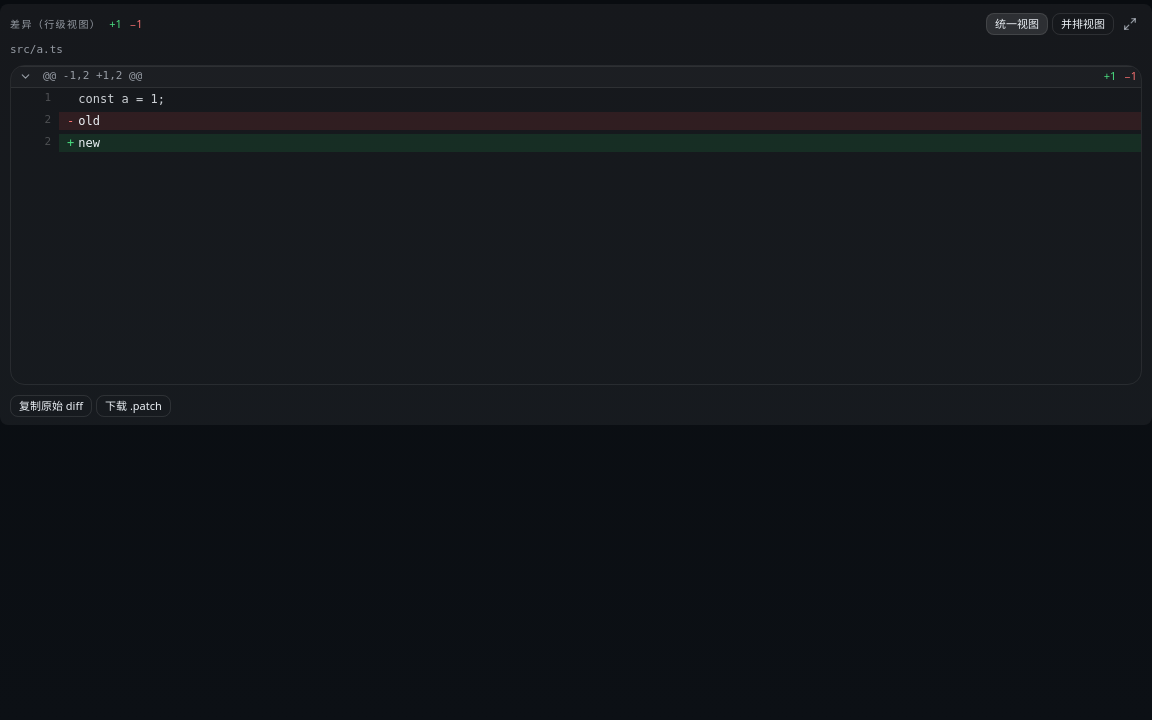
Test: ToolRowDiffPanel 放大差异视图 › 关闭按钮关掉放大面板，小窗口继续留在原位
Click the button with test id "tool-row-diff-expand": [1130, 24] box x1=1118 y1=12 x2=1142 y2=36
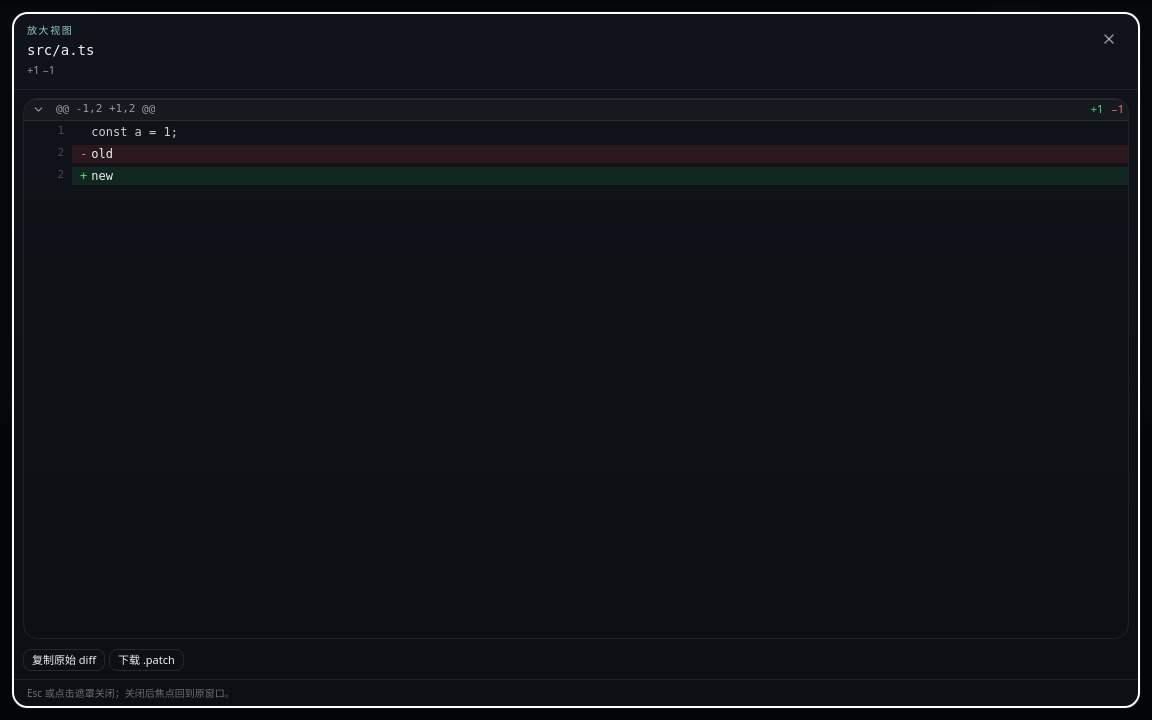
Click the button with test id "tool-row-diff-expanded-close": [1109, 39] box x1=1093 y1=23 x2=1125 y2=55
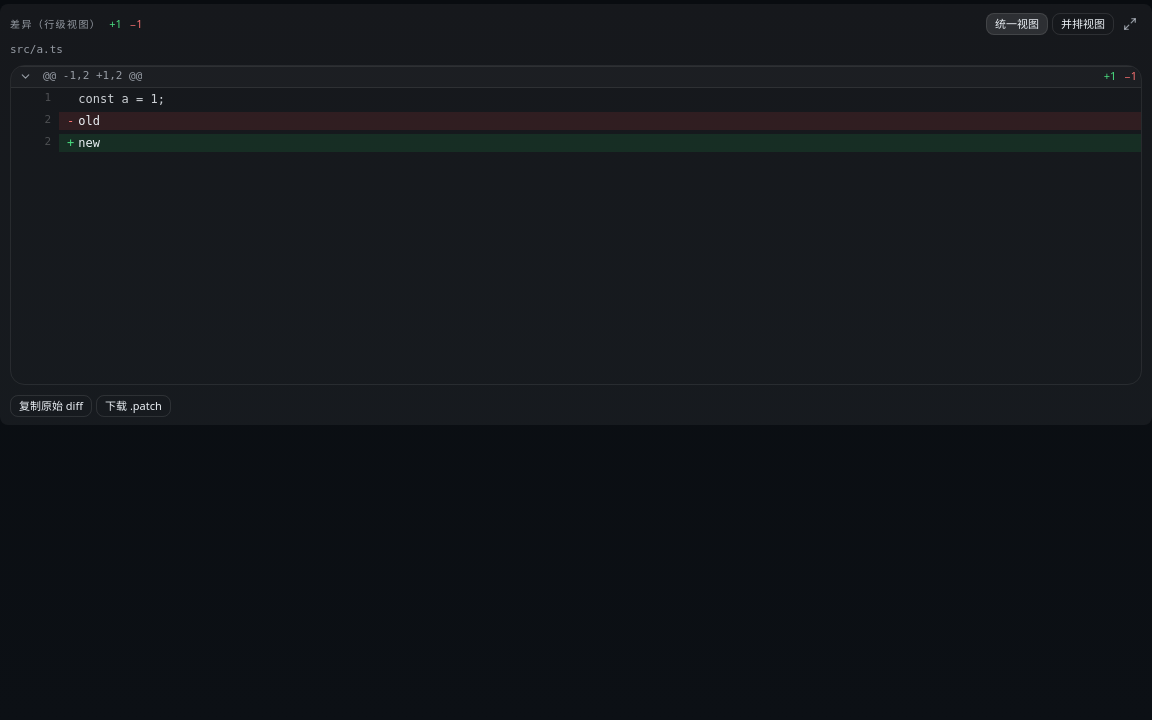
Expected: the element with test id "tool-row-diff-rows" is shown, x1=10 y1=64 x2=1142 y2=384
Result: the dialog with test id "tool-row-diff-expanded" is gone
